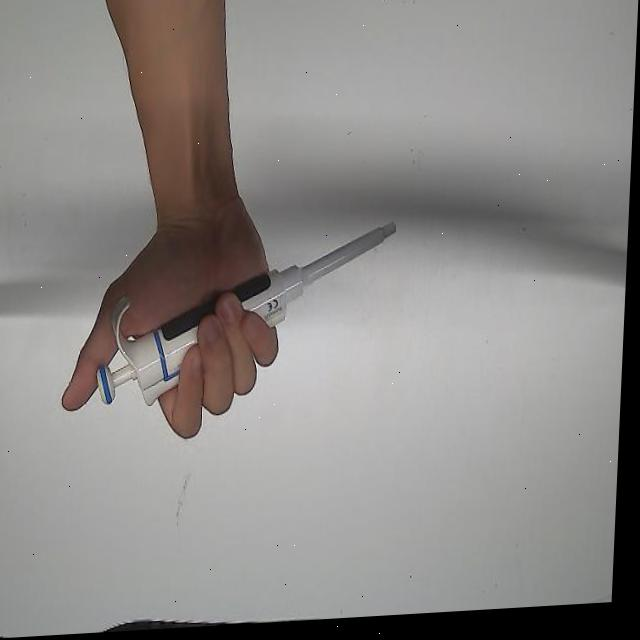Single Channel Pipettor: (98, 224, 404, 413)
